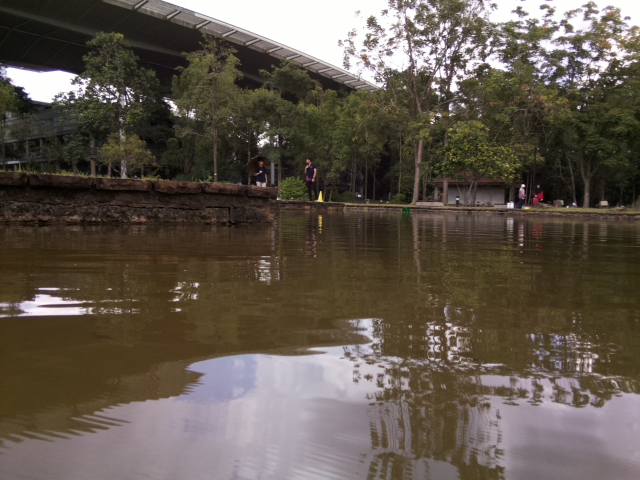checkpoint: (314, 190, 325, 203)
obstacle: (401, 206, 411, 215)
